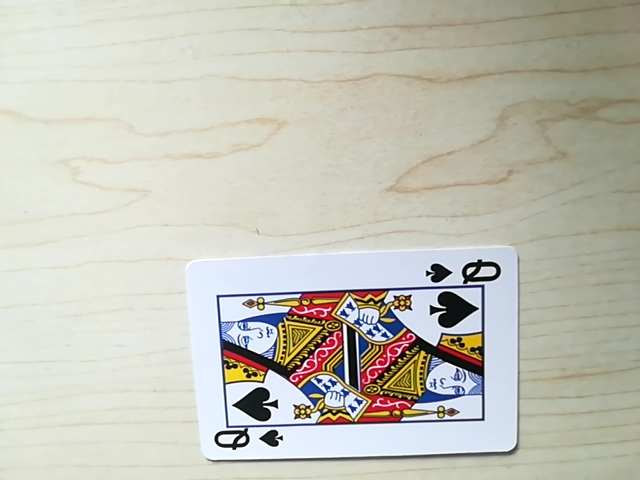ht q: (207, 424, 284, 460), (426, 256, 501, 290)
